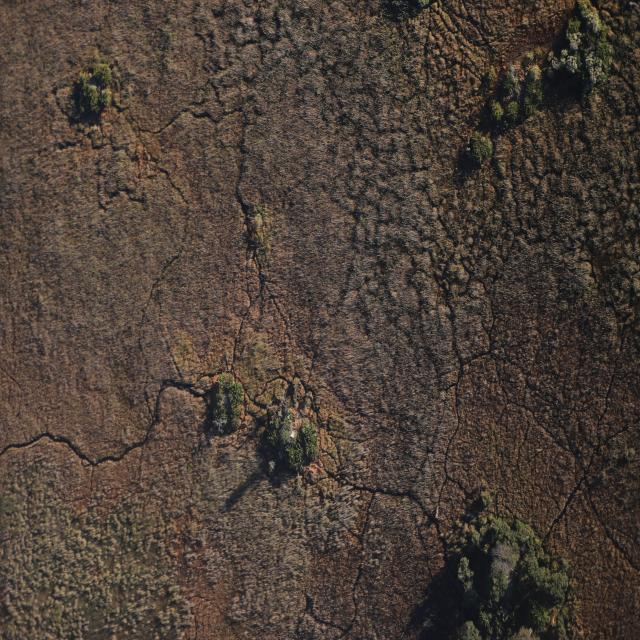elephant: (435, 505, 439, 520)
